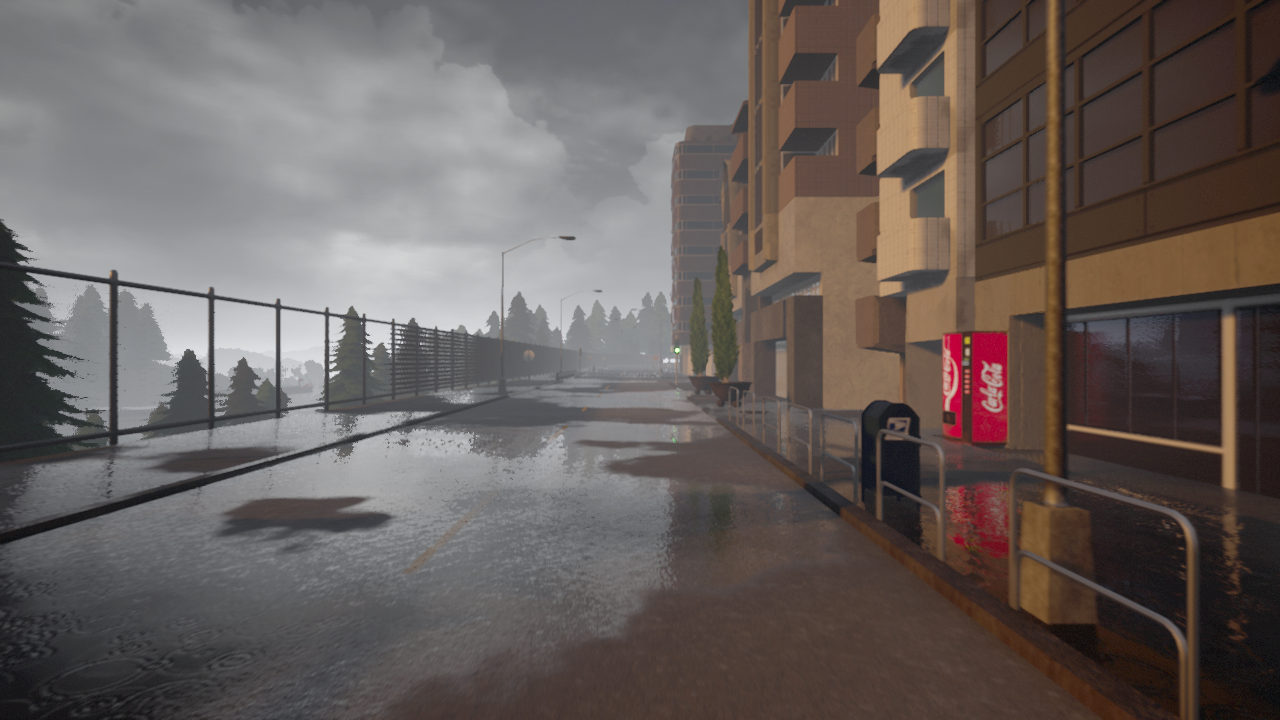green: (674, 339, 680, 354)
